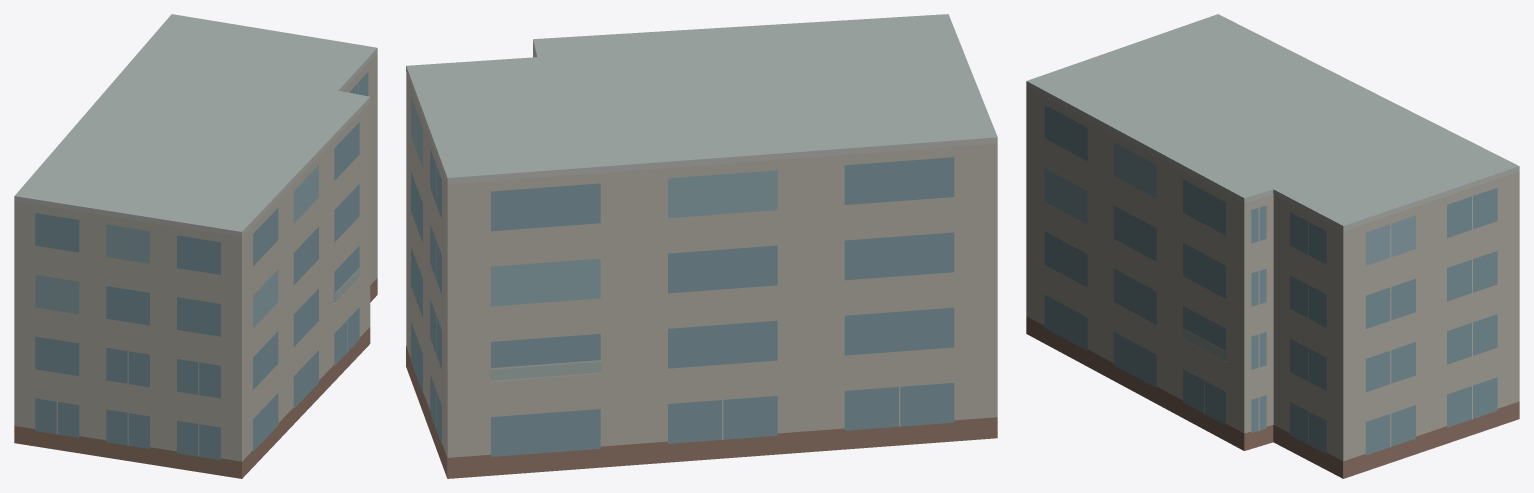
Rendered from survey-upis-32740713.glb.
3 views of the same model, side by side, from view 1: azimuth 30°, elevation 25°; view 2: azimuth 150°, elevation 25°; view 3: azimuth 270°, elevation 25° (orthographic). The views are drawn at different scales.
Parts seen in each view (by area): view 1: survey-upis-32740713.tmp; view 2: survey-upis-32740713.tmp; view 3: survey-upis-32740713.tmp.
Boxes of the visible parts, x1,y1,x2,y2 form: survey-upis-32740713.tmp: (14, 14, 377, 478); survey-upis-32740713.tmp: (406, 14, 997, 478); survey-upis-32740713.tmp: (1026, 14, 1519, 478).
Size of the model in its own units: 21.05 by 11.7 by 20.69.
